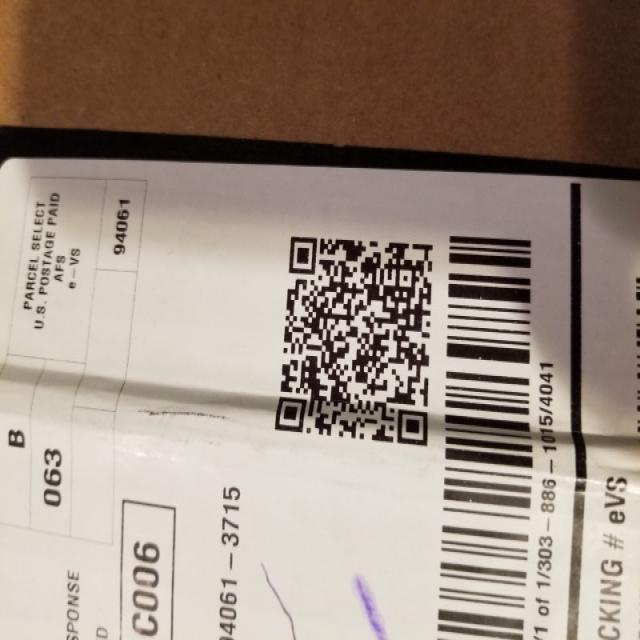qr-code: (266, 208, 436, 466)
